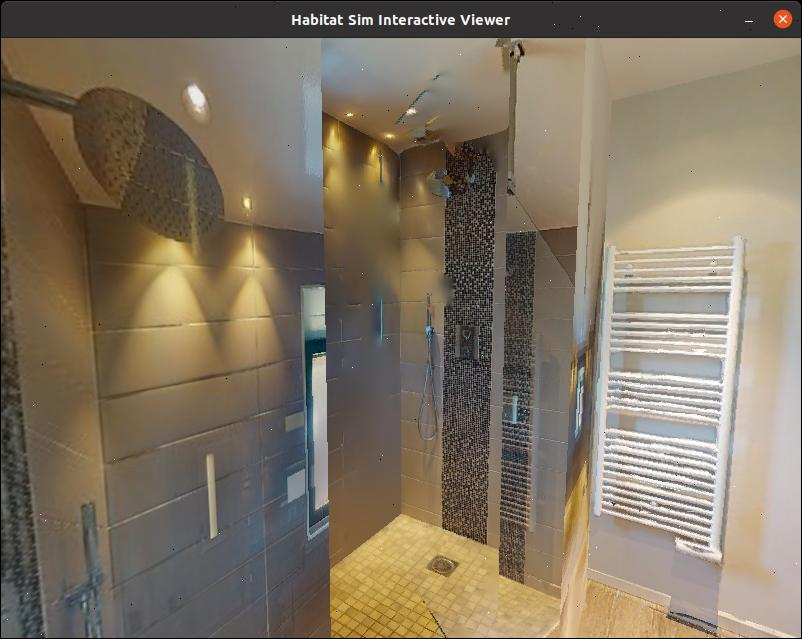shower: (34, 71, 599, 639)
